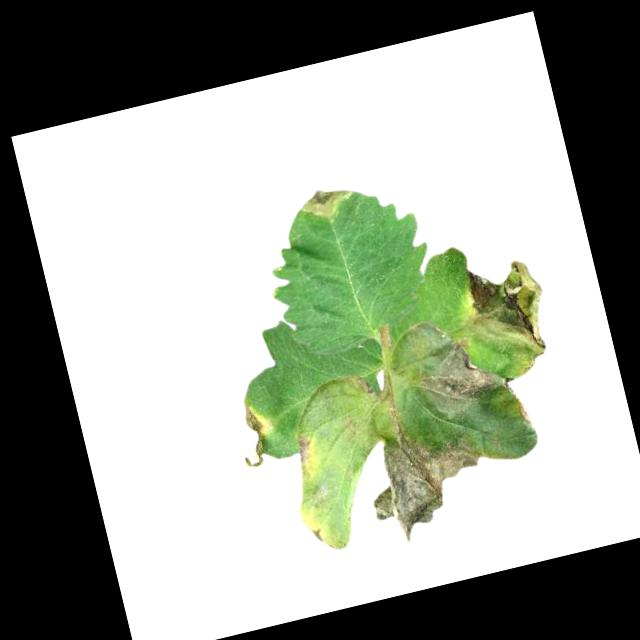Late_blight: (360, 421, 485, 548), (458, 254, 564, 381), (403, 307, 513, 421), (230, 401, 278, 473), (296, 180, 356, 223), (510, 383, 539, 428), (289, 429, 318, 471), (351, 370, 378, 399)
